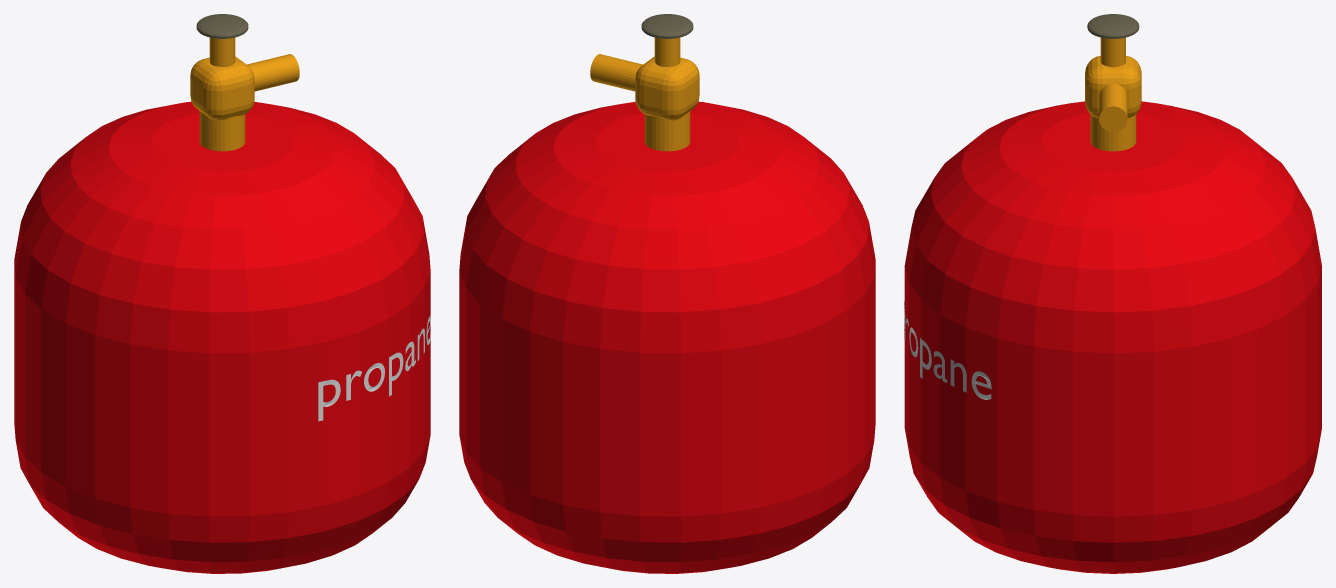
File: balon.fbx
3 renders of one model, left to right at view 1: azimuth 30°, elevation 25°; view 2: azimuth 150°, elevation 25°; view 3: azimuth 270°, elevation 25°, orthographic.
Parts seen in each view (by area): view 1: Цилиндр, Куб, Текст, Цилиндр.001, Цилиндр.002, Цилиндр.004, Цилиндр.003; view 2: Цилиндр, Куб, Цилиндр.001, Цилиндр.002, Цилиндр.004, Цилиндр.003; view 3: Цилиндр, Куб, Текст, Цилиндр.002, Цилиндр.001, Цилиндр.004, Цилиндр.003.
Part boxes in pixels (left/top/right/bottom): Цилиндр: left=14, top=101, right=430, bottom=573; Куб: left=190, top=56, right=254, bottom=120; Текст: left=318, top=316, right=430, bottom=421; Цилиндр.001: left=199, top=111, right=245, bottom=151; Цилиндр.002: left=247, top=54, right=299, bottom=91; Цилиндр.004: left=196, top=14, right=248, bottom=38; Цилиндр.003: left=209, top=37, right=235, bottom=66; Цилиндр: left=459, top=101, right=875, bottom=573; Куб: left=635, top=56, right=699, bottom=120; Цилиндр.001: left=644, top=111, right=690, bottom=151; Цилиндр.002: left=590, top=54, right=642, bottom=91; Цилиндр.004: left=641, top=14, right=693, bottom=38; Цилиндр.003: left=654, top=37, right=680, bottom=66; Цилиндр: left=904, top=101, right=1321, bottom=573; Куб: left=1085, top=56, right=1141, bottom=118; Текст: left=904, top=301, right=991, bottom=399; Цилиндр.002: left=1099, top=83, right=1127, bottom=131; Цилиндр.001: left=1090, top=114, right=1136, bottom=151; Цилиндр.004: left=1087, top=14, right=1139, bottom=38; Цилиндр.003: left=1100, top=37, right=1125, bottom=67.
Bounding box in the file's own units: 20 × 26.34 × 20.04.
